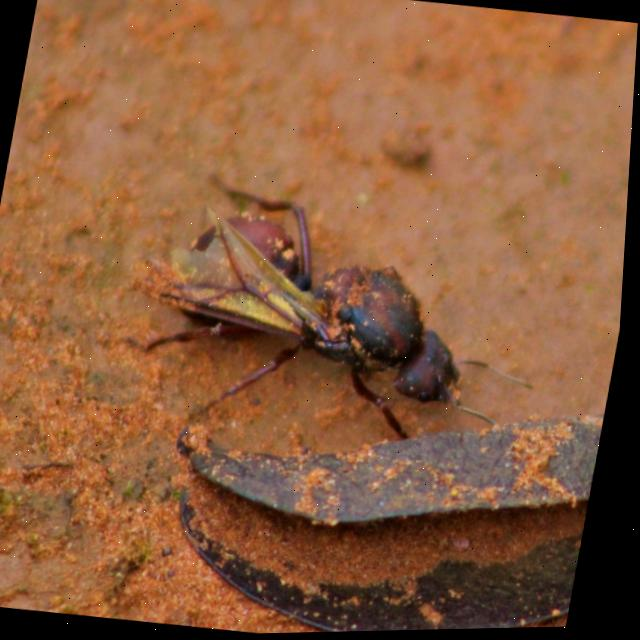Alive-Female-Alate: (79, 159, 571, 499)
